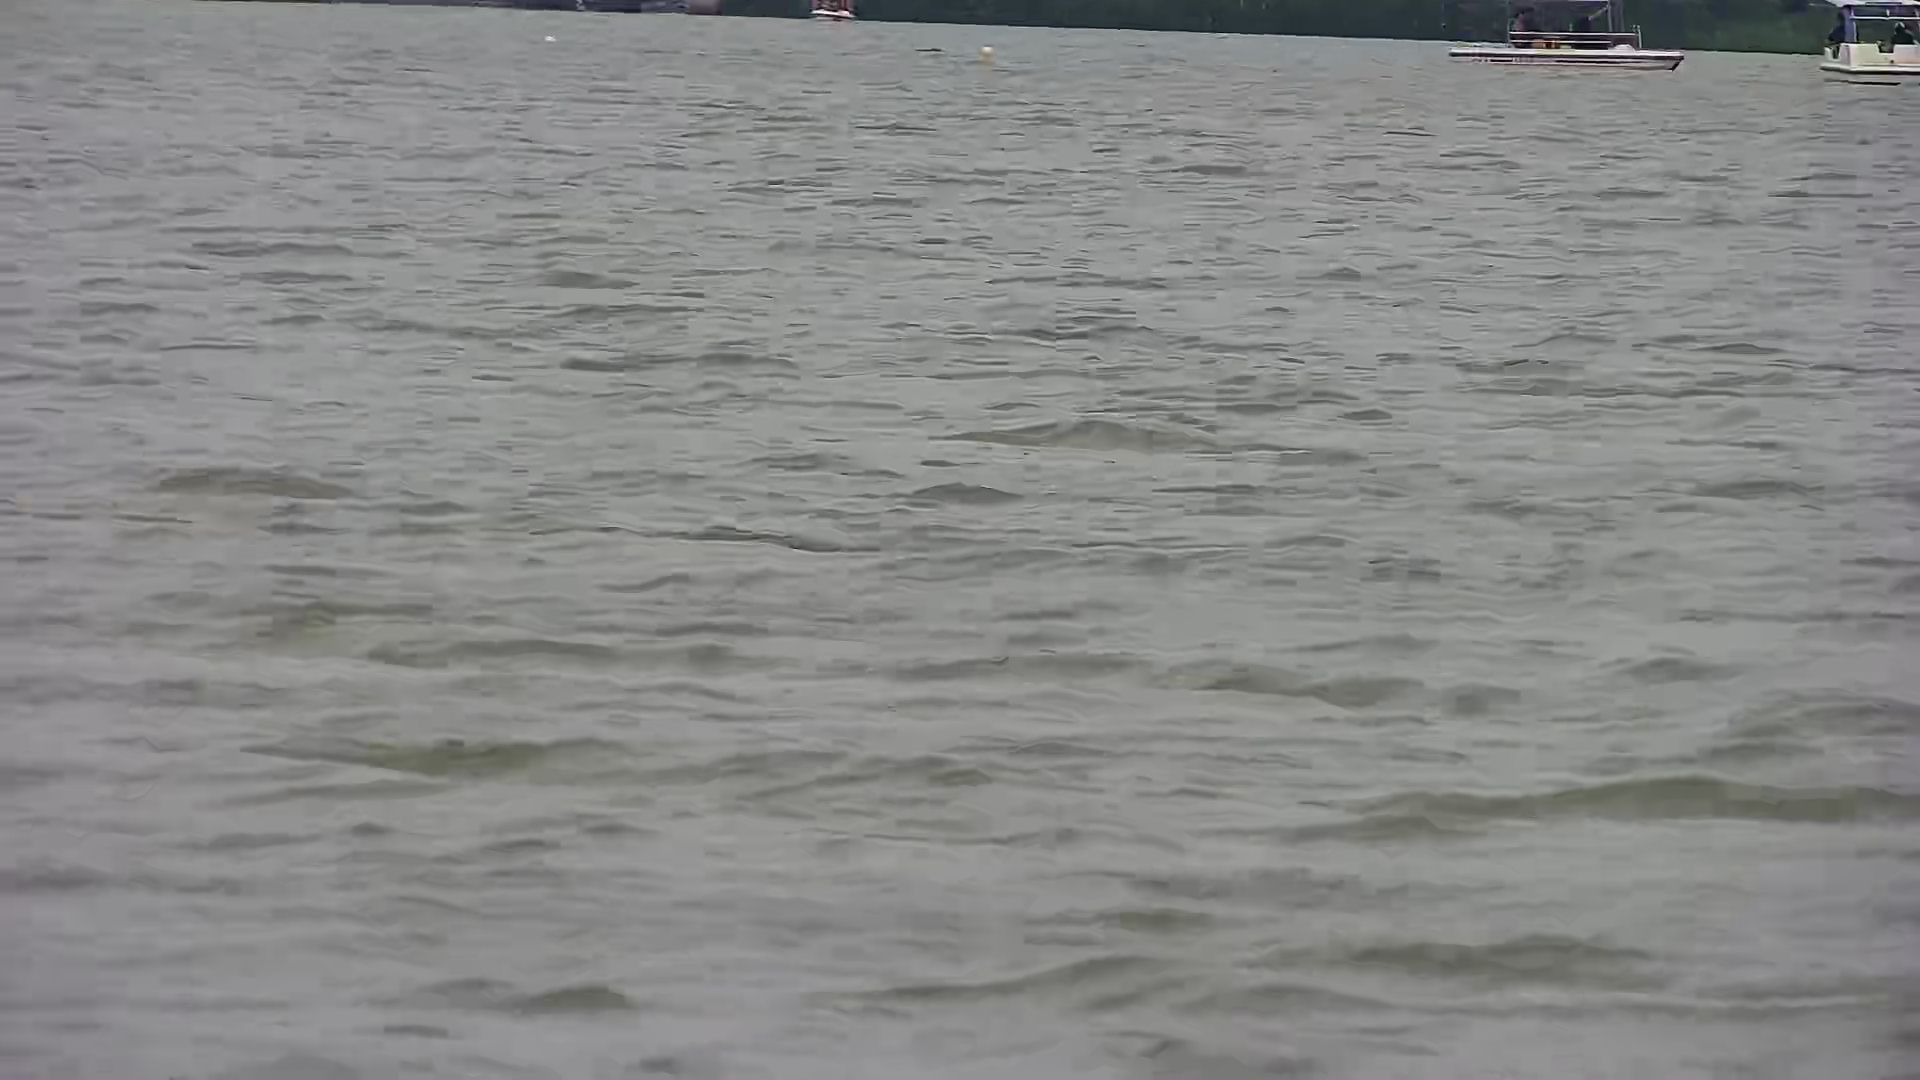boat: (1437, 11, 1684, 76), (1821, 1, 1920, 80)
